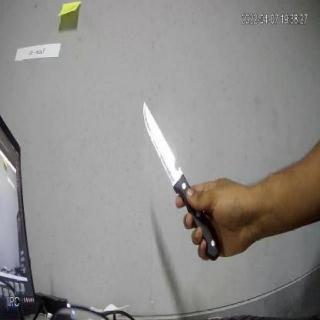knife: (136, 96, 222, 257)
